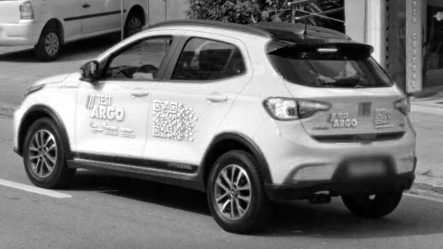car: (11, 19, 419, 236)
